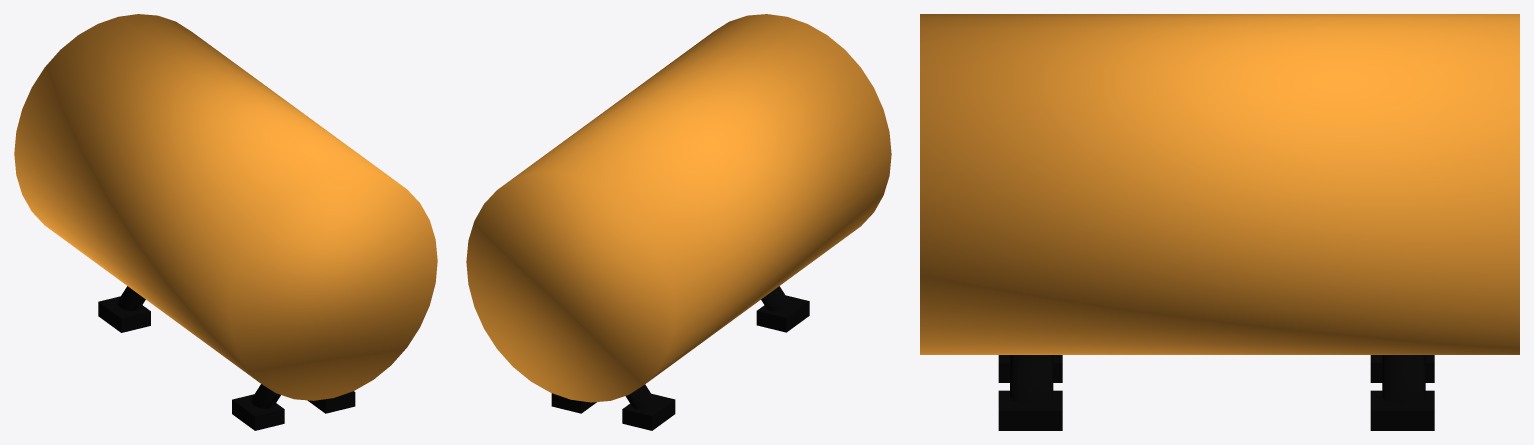
The model's file is Penampung Gas.fbx.
3 renders of one model, left to right at view 1: azimuth 30°, elevation 25°; view 2: azimuth 150°, elevation 25°; view 3: azimuth 270°, elevation 25°, orthographic. The views are drawn at different scales.
Visible parts, largest first — view 1: Penampung Gas, Kaki Penampung II, Kaki Penampung I; view 2: Penampung Gas, Kaki Penampung I, Kaki Penampung II; view 3: Penampung Gas, Kaki Penampung II, Kaki Penampung I.
Boxes of the visible parts, x1,y1,x2,y2 form: Penampung Gas: (14, 14, 437, 400); Kaki Penampung II: (232, 384, 355, 430); Kaki Penampung I: (98, 286, 150, 332); Penampung Gas: (466, 14, 891, 402); Kaki Penampung I: (551, 384, 675, 430); Kaki Penampung II: (756, 286, 809, 332); Penampung Gas: (920, 14, 1519, 354); Kaki Penampung II: (998, 355, 1062, 430); Kaki Penampung I: (1370, 355, 1434, 430).
Bounding box in the file's own units: 117 × 143 × 211.
